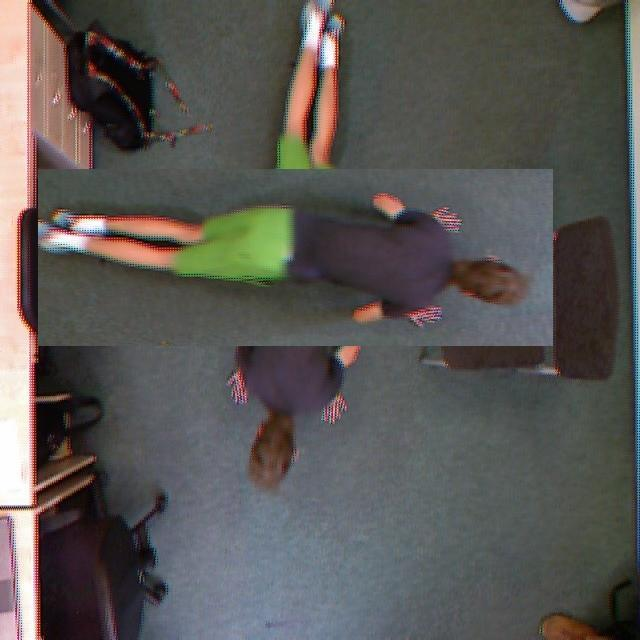Fall: (33, 198, 531, 328)
